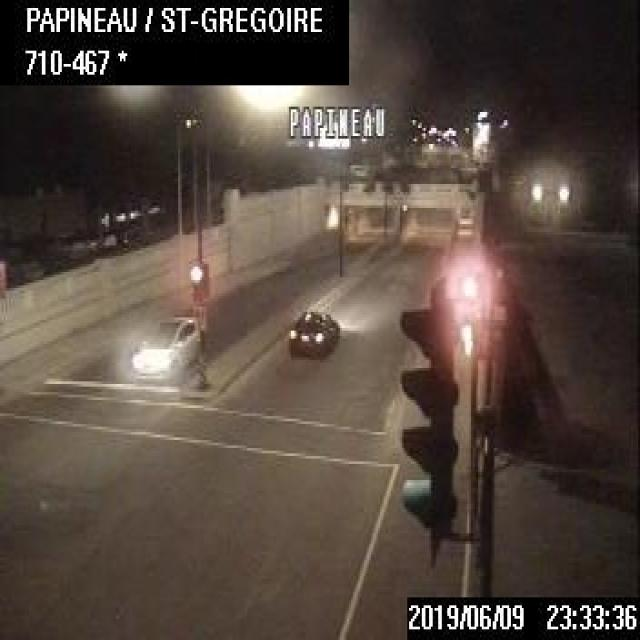vehicle: (131, 310, 198, 374), (288, 304, 336, 352)
